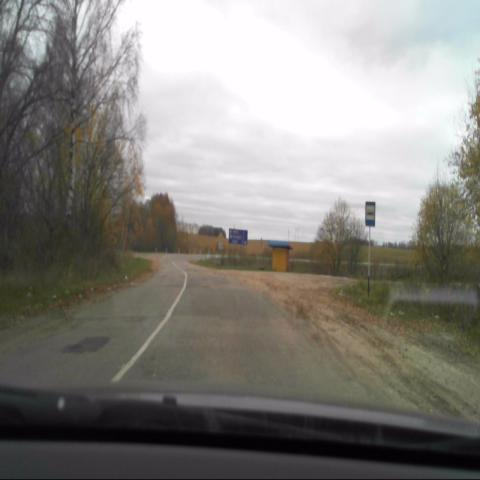5_16: (364, 200, 374, 226)
